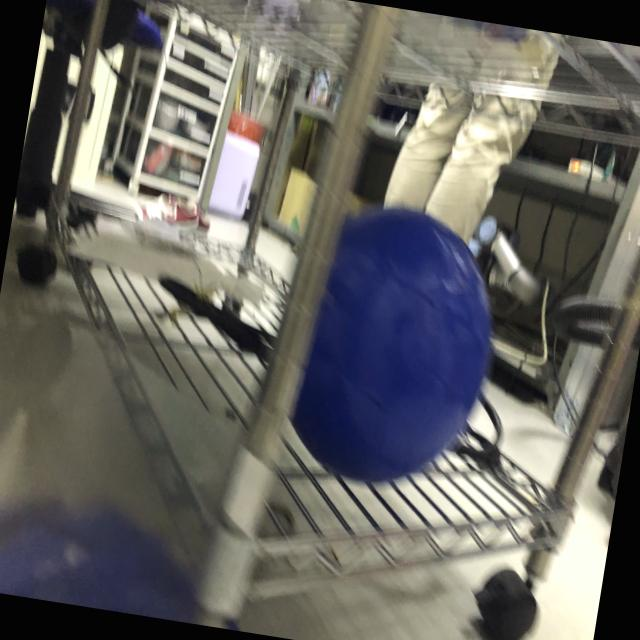blue_ball: (271, 187, 517, 498)
